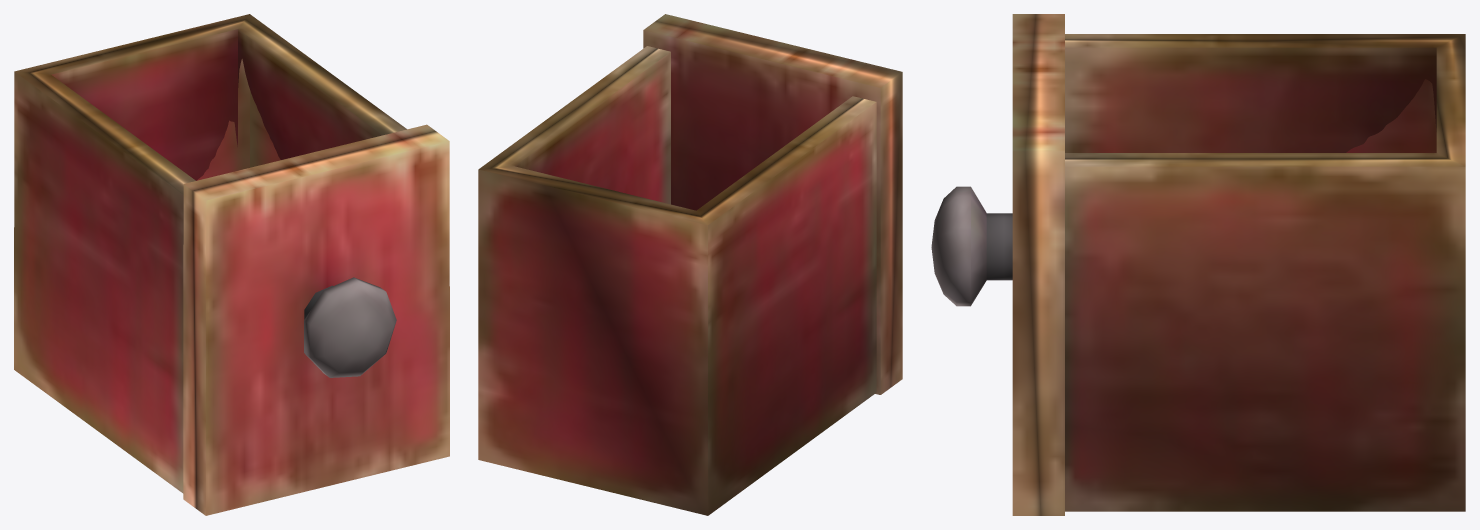
3 views of the same model, side by side, from view 1: azimuth 30°, elevation 25°; view 2: azimuth 150°, elevation 25°; view 3: azimuth 270°, elevation 25° (orthographic). The views are drawn at different scales.
Visible parts, largest first — view 1: SM_Postbox_Drawer_LOD0; view 2: SM_Postbox_Drawer_LOD0; view 3: SM_Postbox_Drawer_LOD0.
Part boxes in pixels (box(x1,y1,x2,y2)): SM_Postbox_Drawer_LOD0: box(14, 14, 449, 515); SM_Postbox_Drawer_LOD0: box(478, 14, 902, 515); SM_Postbox_Drawer_LOD0: box(931, 14, 1465, 515).
Size of the model in its own units: 0.2282 by 0.2819 by 0.3743.
1 material, 1 textured.
